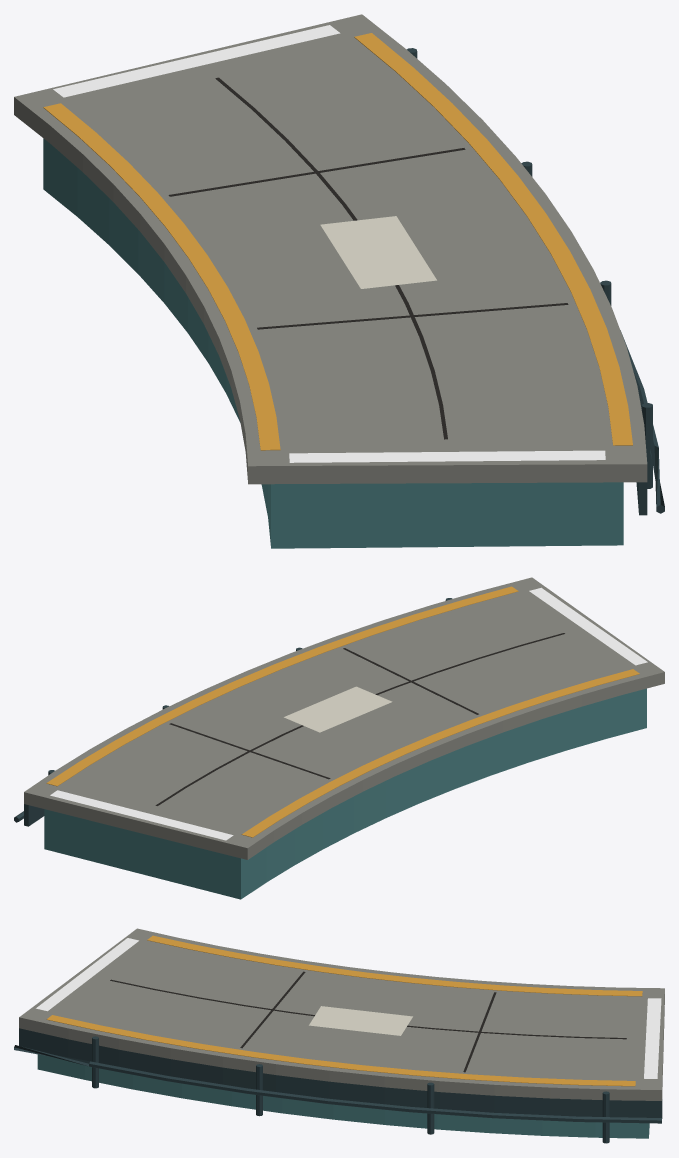
The model's file is core-ring-outer.glb.
The picture shows the model from 3 angles, top to bottom: view 1: azimuth 30°, elevation 25°; view 2: azimuth 150°, elevation 25°; view 3: azimuth 270°, elevation 25°; orthographic projection. The views are drawn at different scales.
Parts seen in each view (by area): view 1: core-ring-outer__core-ring-outer__concrete, core-ring-outer__core-ring-outer__petrol, core-ring-outer__core-ring-outer__amber, core-ring-outer__core-ring-outer__decal-hazard, core-ring-outer__core-ring-outer__decal-ivory, core-ring-outer__core-ring-outer__soot, core-ring-outer__core-ring-outer__steel; view 2: core-ring-outer__core-ring-outer__concrete, core-ring-outer__core-ring-outer__petrol, core-ring-outer__core-ring-outer__amber, core-ring-outer__core-ring-outer__decal-hazard, core-ring-outer__core-ring-outer__decal-ivory, core-ring-outer__core-ring-outer__soot, core-ring-outer__core-ring-outer__steel; view 3: core-ring-outer__core-ring-outer__concrete, core-ring-outer__core-ring-outer__steel, core-ring-outer__core-ring-outer__petrol, core-ring-outer__core-ring-outer__amber, core-ring-outer__core-ring-outer__decal-hazard, core-ring-outer__core-ring-outer__decal-ivory, core-ring-outer__core-ring-outer__soot.
Boxes of the visible parts, x1,y1,x2,y2 form: core-ring-outer__core-ring-outer__concrete: (14, 14, 647, 484); core-ring-outer__core-ring-outer__petrol: (43, 138, 623, 548); core-ring-outer__core-ring-outer__amber: (43, 33, 632, 450); core-ring-outer__core-ring-outer__decal-hazard: (53, 25, 605, 462); core-ring-outer__core-ring-outer__decal-ivory: (320, 216, 436, 288); core-ring-outer__core-ring-outer__soot: (168, 77, 568, 439); core-ring-outer__core-ring-outer__steel: (407, 48, 664, 515); core-ring-outer__core-ring-outer__concrete: (24, 577, 664, 859); core-ring-outer__core-ring-outer__petrol: (44, 688, 646, 899); core-ring-outer__core-ring-outer__amber: (46, 586, 639, 837); core-ring-outer__core-ring-outer__decal-hazard: (50, 587, 647, 840); core-ring-outer__core-ring-outer__decal-ivory: (284, 686, 392, 732); core-ring-outer__core-ring-outer__soot: (155, 633, 564, 805); core-ring-outer__core-ring-outer__steel: (14, 598, 452, 826); core-ring-outer__core-ring-outer__concrete: (19, 928, 664, 1100); core-ring-outer__core-ring-outer__steel: (14, 1028, 662, 1143); core-ring-outer__core-ring-outer__petrol: (37, 1054, 649, 1138); core-ring-outer__core-ring-outer__amber: (46, 935, 642, 1086); core-ring-outer__core-ring-outer__decal-hazard: (36, 938, 661, 1078); core-ring-outer__core-ring-outer__decal-ivory: (309, 1006, 412, 1035); core-ring-outer__core-ring-outer__soot: (110, 971, 626, 1072).
Size of the model in its own units: 3.91 by 0.606 by 6.48.
